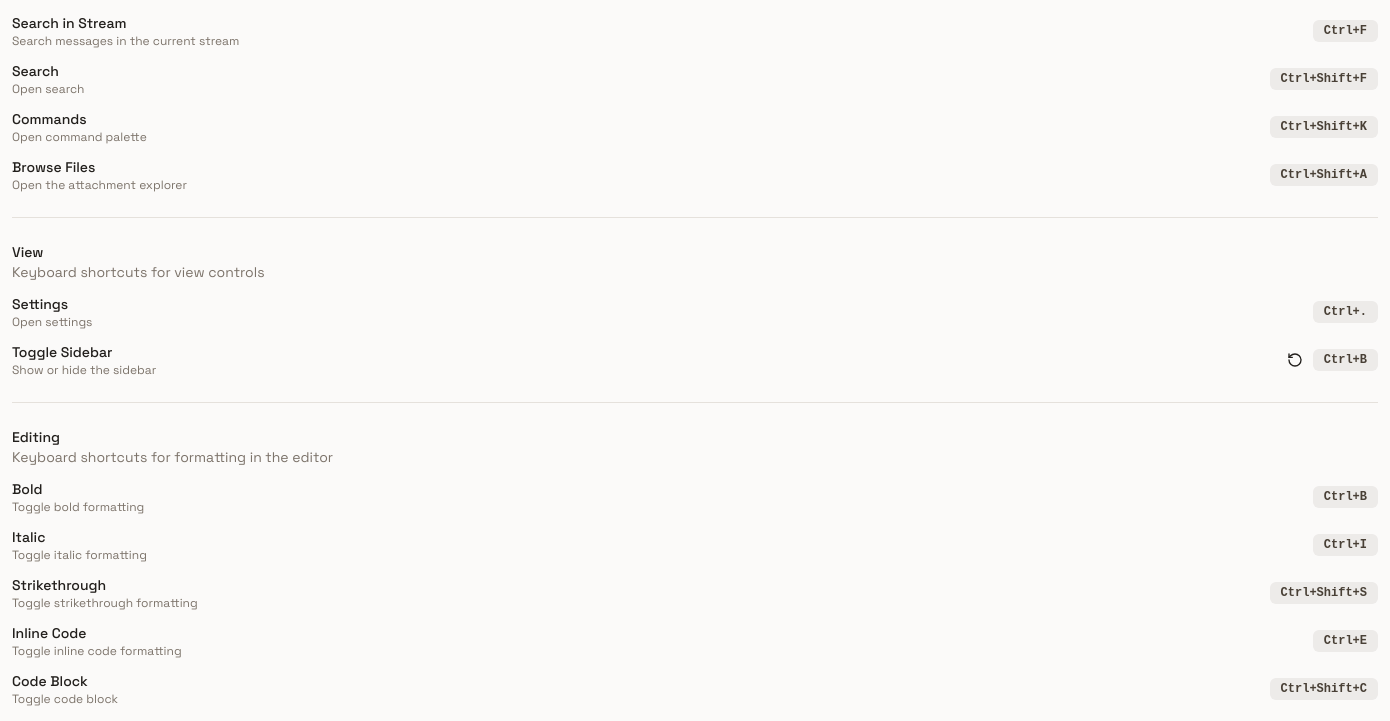
KeyboardSettings › shows a tooltip for the reset icon button
This screenshot has width=1390, height=721.
(page scrolled)
Hover over the button named "Reset to default" at (1295, 360), box [1283, 348, 1307, 372]
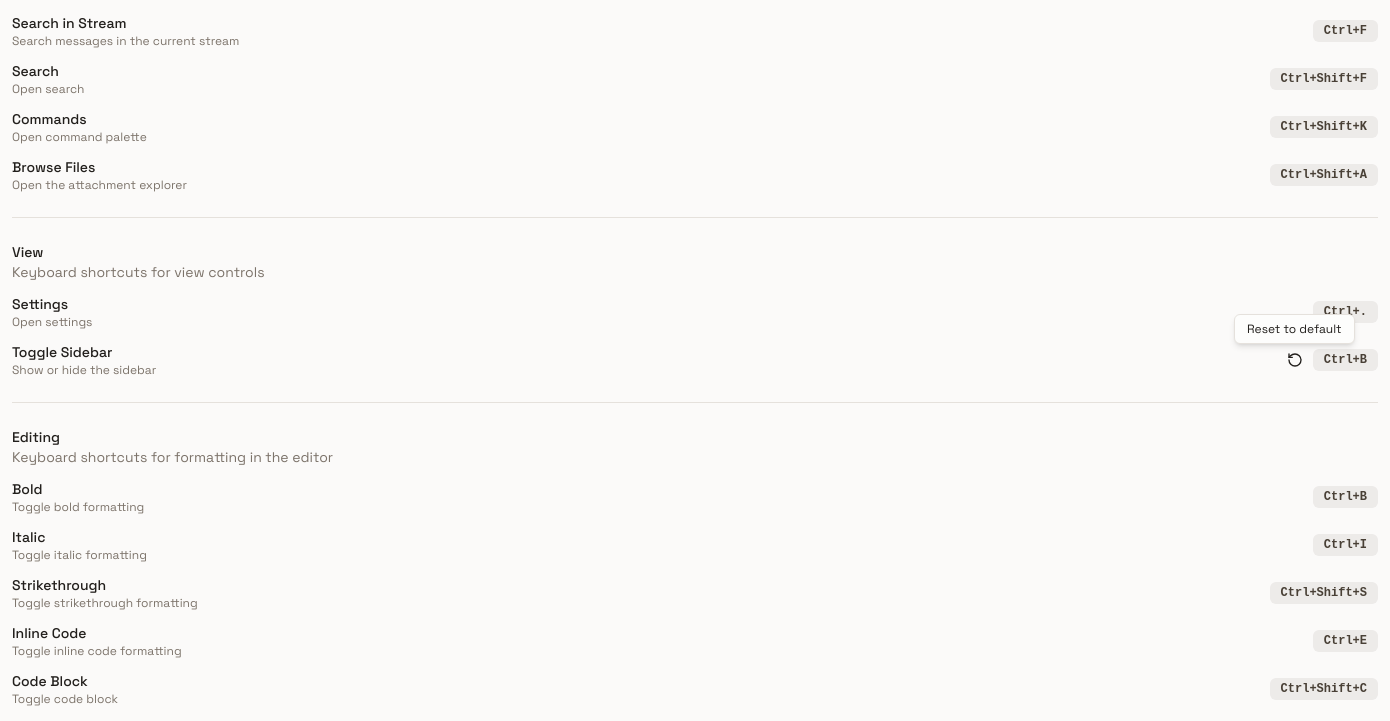
Expected: the tooltip "Reset to default" is shown, [1234, 314, 1355, 344]
